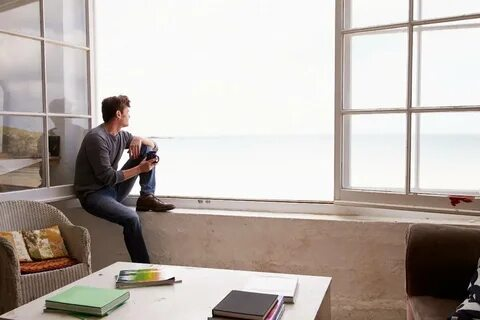awake: (74, 94, 177, 263)
